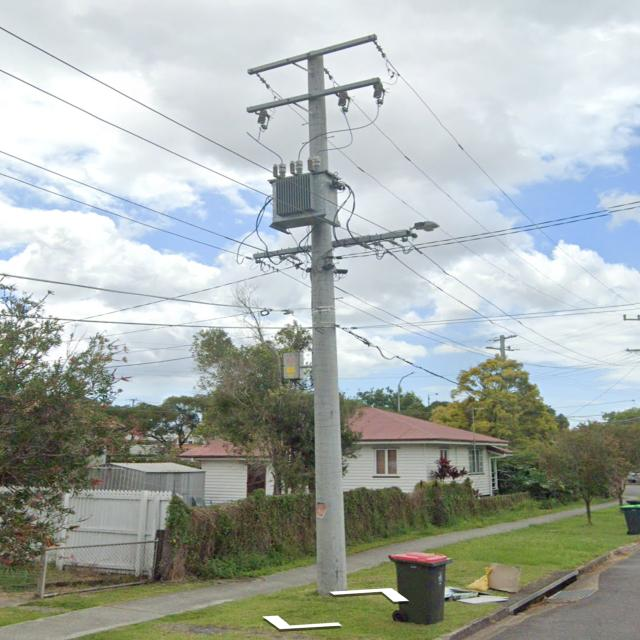HV-transmission: (246, 33, 399, 130)
LV link: (358, 242, 392, 259), (387, 239, 423, 254), (281, 253, 305, 270)
concrete-pole: (307, 49, 349, 597)
crossarm: (248, 34, 380, 76), (245, 77, 381, 113), (254, 230, 412, 259)
streetlight: (409, 221, 440, 232)
transformer: (270, 160, 338, 236)
